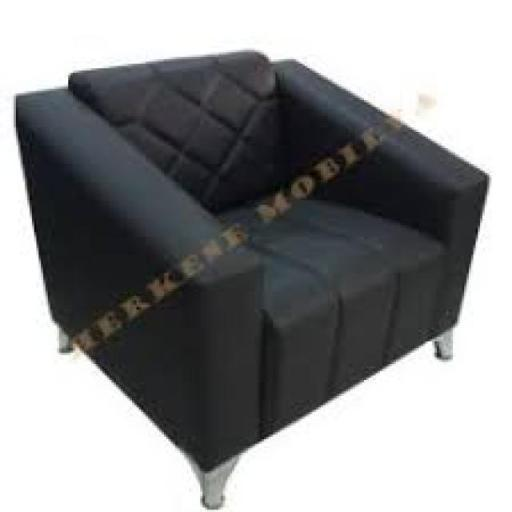sofa: (0, 32, 512, 502)
